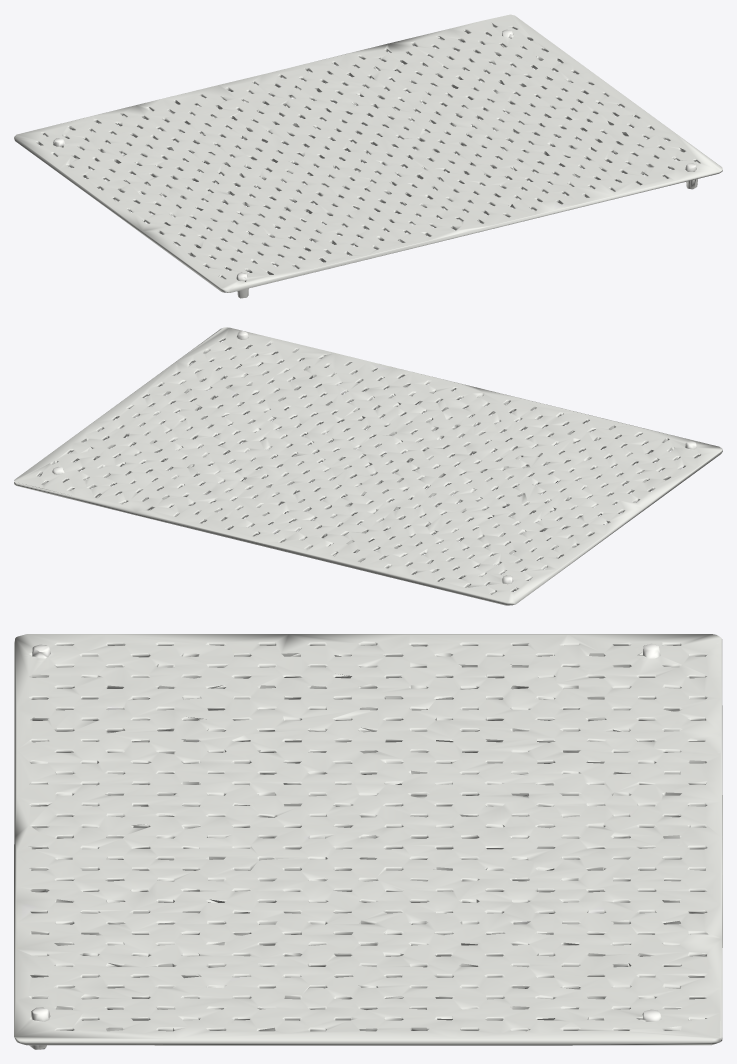
Rendered from SK_DIS_10321618.glb.
The picture shows the model from 3 angles, top to bottom: view 1: azimuth 30°, elevation 25°; view 2: azimuth 150°, elevation 25°; view 3: azimuth 270°, elevation 25°; orthographic projection. The views are drawn at different scales.
Parts seen in each view (by area): view 1: 10321618-SKÃƒâ€¦DIS001; view 2: 10321618-SKÃƒâ€¦DIS001; view 3: 10321618-SKÃƒâ€¦DIS001.
Part boxes in pixels (box(x1,y1,x2,y2)): 10321618-SKÃƒâ€¦DIS001: box(14, 14, 722, 298); 10321618-SKÃƒâ€¦DIS001: box(14, 327, 722, 605); 10321618-SKÃƒâ€¦DIS001: box(14, 634, 722, 1049).
Bounding box in the file's own units: 0.7602 × 0.0342 × 0.5603.
Materials: 1 (1 with a texture image).
